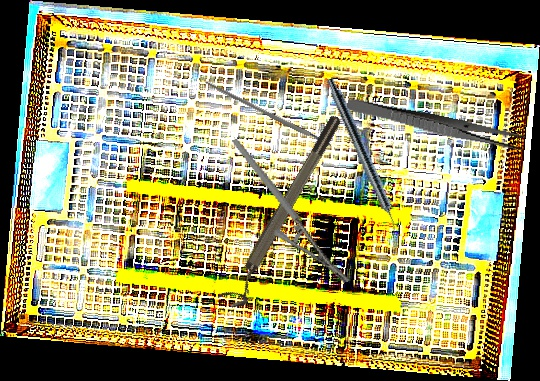Dressing Forceps: (345, 96, 527, 153)
Fixation Ring: (217, 112, 353, 313)
Handpiece: (321, 76, 406, 239)
Needle Holder: (231, 118, 352, 303)
Scalpel Handle: (204, 79, 332, 149)
